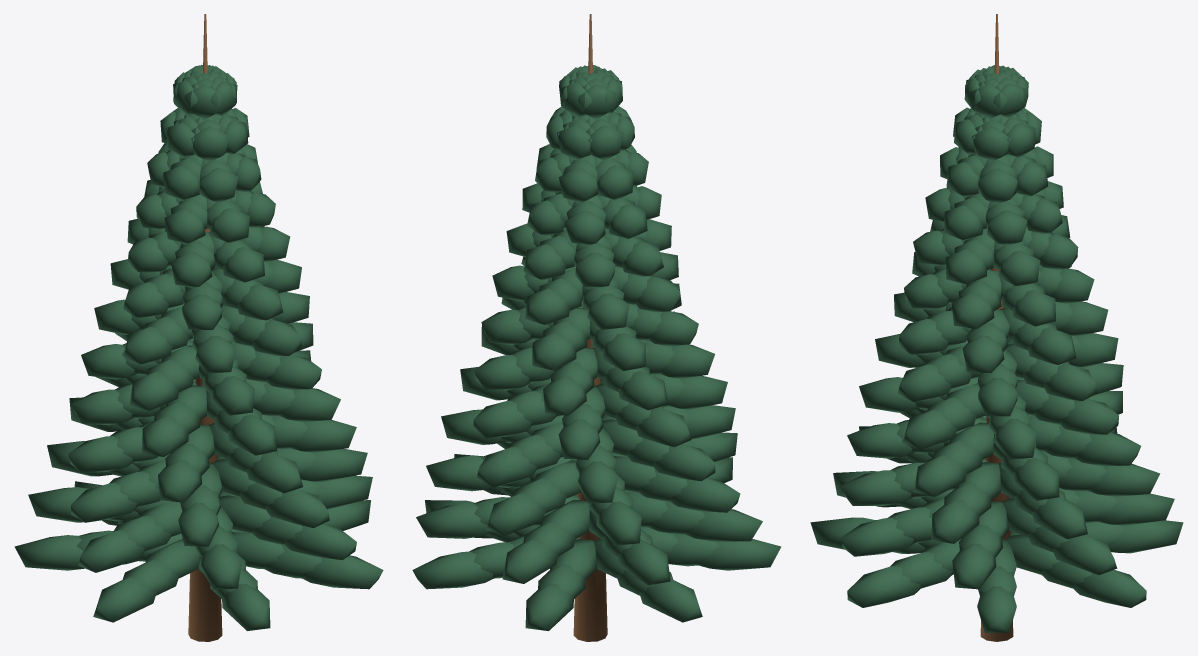
Rendered from conifer-light.glb.
3 views of the same model, side by side, from view 1: azimuth 30°, elevation 25°; view 2: azimuth 150°, elevation 25°; view 3: azimuth 270°, elevation 25° (orthographic).
Parts seen in each view (by area): view 1: Conifer trunk, Conifer foliage spray.020, Conifer foliage spray.011, Conifer foliage spray.038, Conifer foliage spray.014, Conifer foliage spray.032, Conifer foliage spray.050, Conifer foliage spray.068, Conifer foliage spray.056, Conifer foliage spray.017, Conifer foliage spray.059, Conifer foliage spray.077 (+73 smaller); view 2: Conifer trunk, Conifer foliage spray.005, Conifer foliage spray.023, Conifer foliage spray.014, Conifer foliage spray.032, Conifer foliage spray.050, Conifer foliage spray.011, Conifer foliage spray.026, Conifer foliage spray.008, Conifer foliage spray.029, Conifer foliage spray.044, Conifer foliage spray.068 (+71 smaller); view 3: Conifer foliage spray.020, Conifer foliage spray.038, Conifer foliage spray.005, Conifer foliage spray.056, Conifer foliage spray.026, Conifer foliage spray.008, Conifer foliage spray.044, Conifer foliage spray.023, Conifer foliage spray.074, Conifer foliage spray.083, Conifer foliage spray.062, Conifer foliage spray.059 (+74 smaller).
Boxes of the visible parts, x1,y1,x2,y2 form: Conifer trunk: (188,14,222,641); Conifer foliage spray.020: (299,555,383,589); Conifer foliage spray.011: (14,535,84,570); Conifer foliage spray.038: (283,523,356,559); Conifer foliage spray.014: (93,576,156,622); Conifer foliage spray.032: (78,529,144,572); Conifer foliage spray.050: (71,482,137,522); Conifer foliage spray.068: (68,436,134,472); Conifer foliage spray.056: (265,489,329,527); Conifer foliage spray.017: (222,583,270,630); Conifer foliage spray.059: (301,449,367,481); Conifer foliage spray.077: (288,419,356,452); Conifer trunk: (573,14,607,641); Conifer foliage spray.005: (412,551,496,589); Conifer foliage spray.023: (416,503,493,538); Conifer foliage spray.014: (695,539,781,570); Conifer foliage spray.032: (683,509,762,541); Conifer foliage spray.050: (668,477,740,512); Conifer foliage spray.011: (639,579,702,622); Conifer foliage spray.026: (502,538,557,583); Conifer foliage spray.008: (525,583,573,630); Conifer foliage spray.029: (617,539,670,585); Conifer foliage spray.044: (486,492,545,535); Conifer foliage spray.068: (653,444,715,481); Conifer foliage spray.020: (847,565,921,607); Conifer foliage spray.038: (840,517,915,556); Conifer foliage spray.005: (1072,570,1146,607); Conifer foliage spray.056: (840,470,913,505); Conifer foliage spray.026: (1095,493,1174,525); Conifer foliage spray.008: (1108,520,1183,553); Conifer foliage spray.044: (1086,463,1160,496); Conifer foliage spray.023: (1052,535,1117,574); Conifer foliage spray.074: (847,423,915,458); Conifer foliage spray.083: (1073,432,1140,466); Conifer foliage spray.062: (1032,497,1087,539); Conifer foliage spray.059: (931,499,979,543).
Bounding box in the file's own units: 4.25 × 8 × 4.36.
